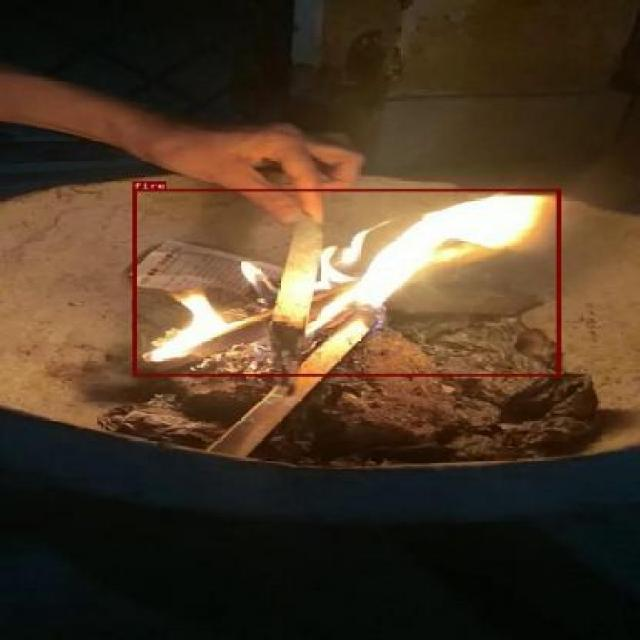Fire: (132, 188, 560, 376)
